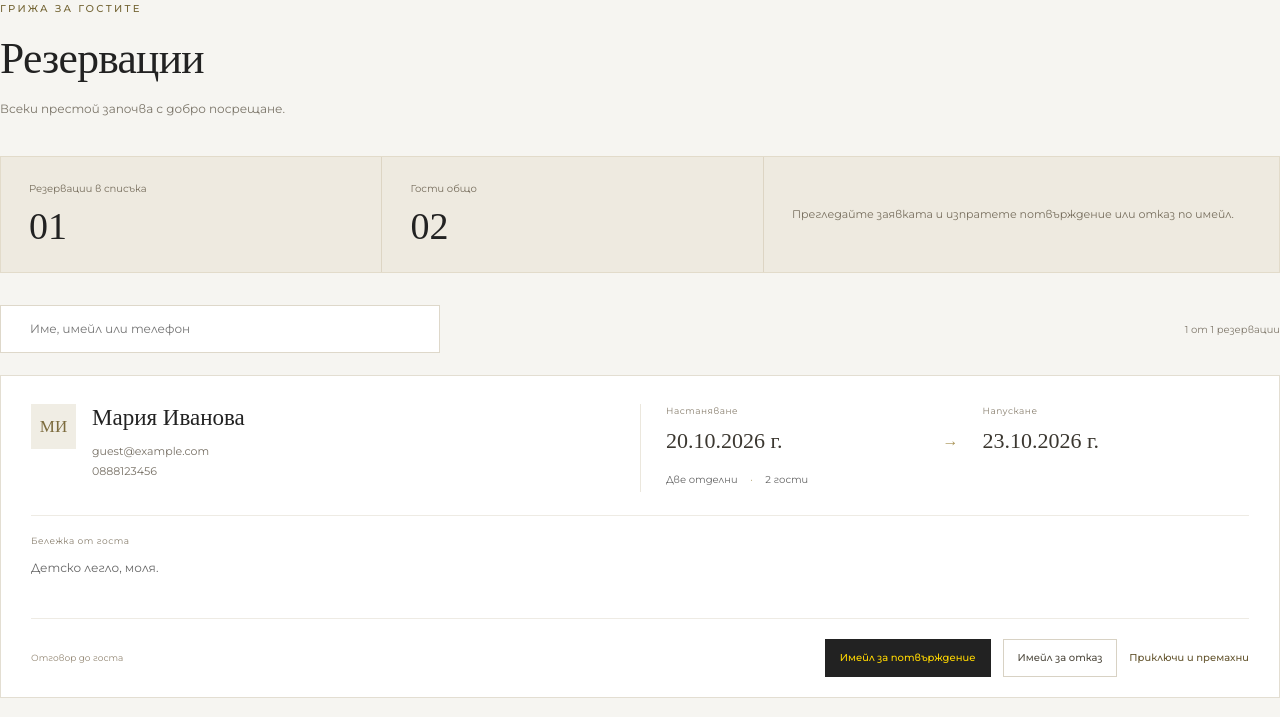
Test case: sends a confirmation only for the selected guest and preserves the reservation
The image size is (1280, 717).
Click the button "Имейл за потвърждение". click: [908, 658]
box: [825, 639, 991, 677]
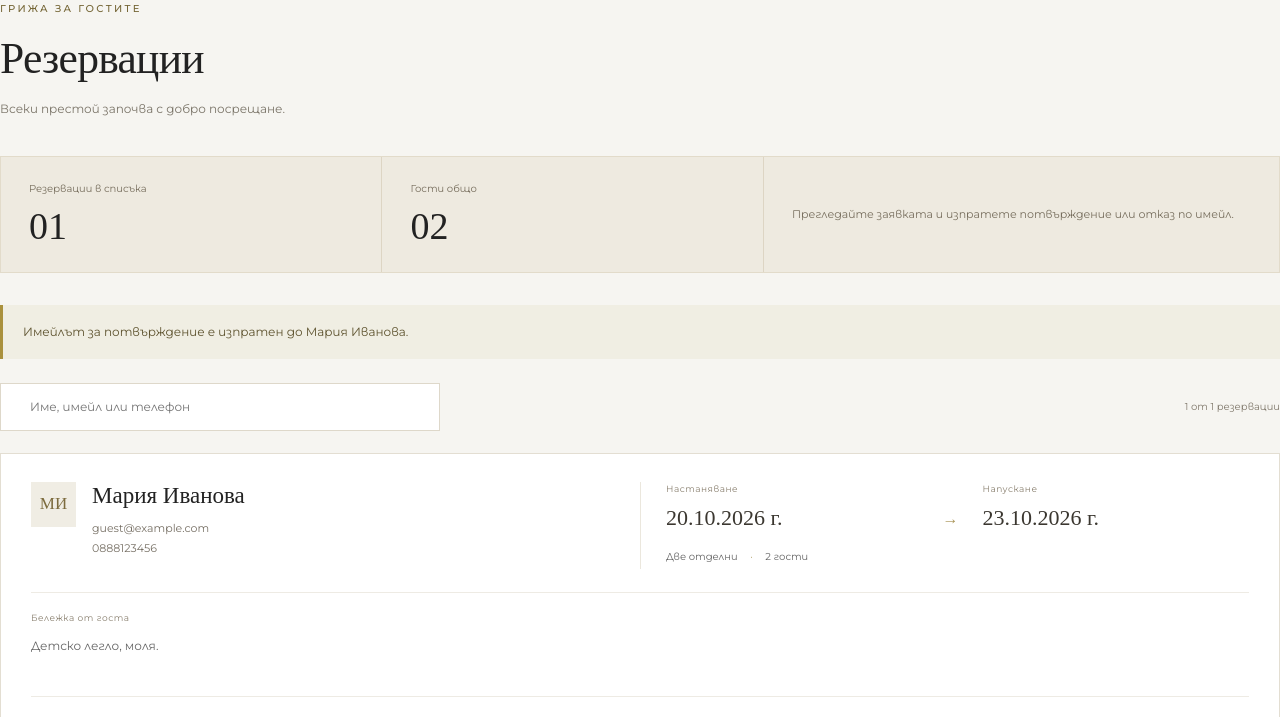
Check: the heading "Мария Иванова" is shown, box [92, 482, 245, 510]
Check: the text "Имейлът за потвърждение е изпратен до Мария Иванова." is shown, box [0, 305, 1279, 359]
